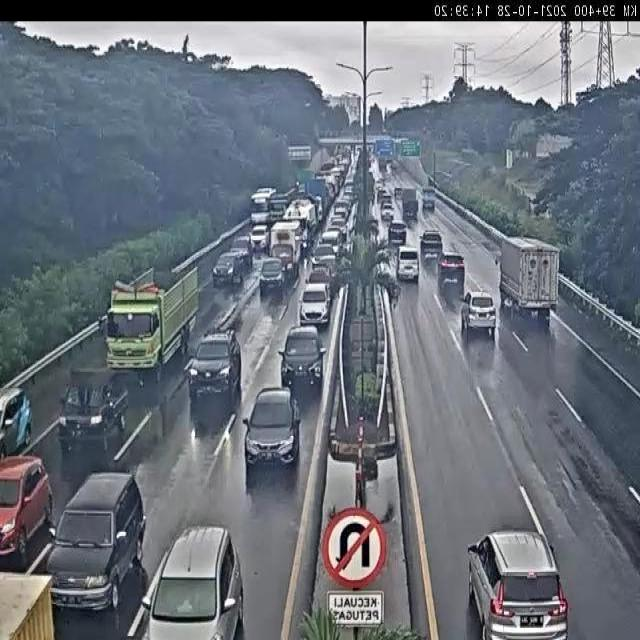Car: (46, 471, 146, 619), (461, 522, 568, 640), (140, 524, 243, 637), (57, 371, 129, 462), (1, 455, 55, 569), (244, 385, 304, 485), (187, 326, 244, 417), (278, 325, 327, 398), (0, 386, 32, 458), (460, 290, 497, 340), (211, 247, 250, 288), (298, 282, 332, 328), (258, 258, 286, 300), (437, 250, 465, 292), (307, 264, 335, 303), (396, 245, 419, 282), (230, 234, 254, 266), (250, 225, 271, 252)
Truck: (107, 254, 204, 359), (492, 230, 564, 325), (274, 216, 304, 278), (247, 180, 274, 228)
